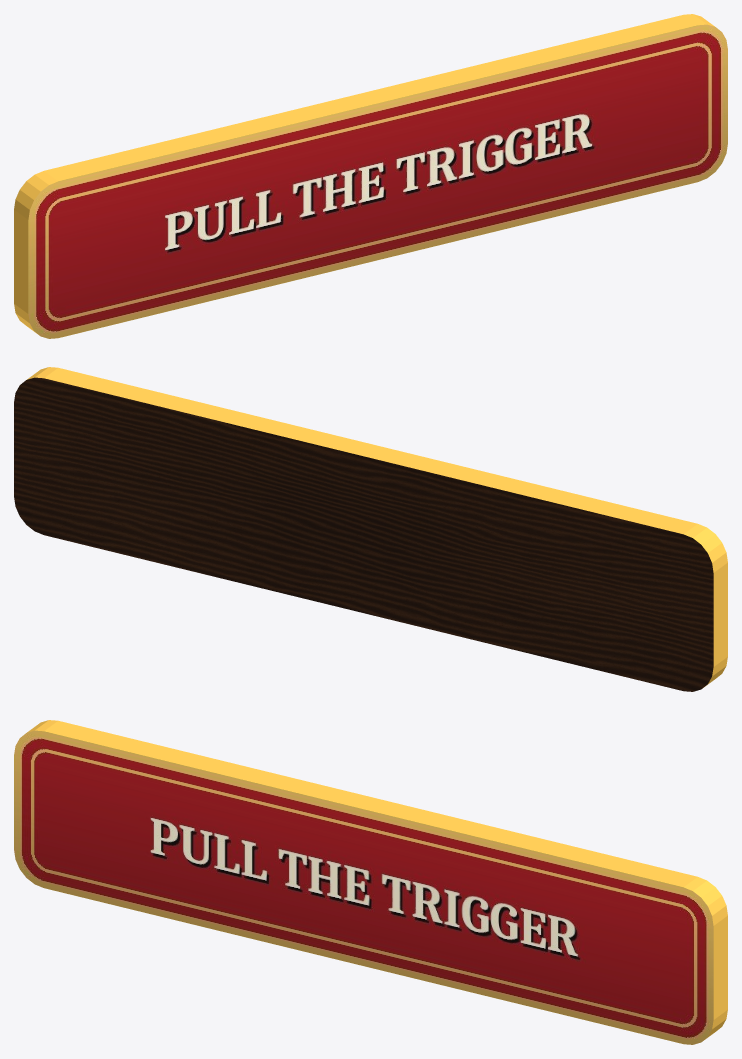
The model's file is lb4_btn_fire.glb.
3 renders of one model, top to bottom at view 1: azimuth 30°, elevation 25°; view 2: azimuth 150°, elevation 25°; view 3: azimuth 330°, elevation 25°, orthographic.
Visible parts, largest first — view 1: lb4_btn_fire; view 2: lb4_btn_fire; view 3: lb4_btn_fire.
Boxes of the visible parts, box(x1,y1,x2,y2) form: lb4_btn_fire: box(14, 14, 727, 338); lb4_btn_fire: box(14, 367, 727, 691); lb4_btn_fire: box(14, 720, 727, 1044).
Size of the model in its own units: 1.4 by 0.3 by 0.05.
Materials: 3 (2 with a texture image).
